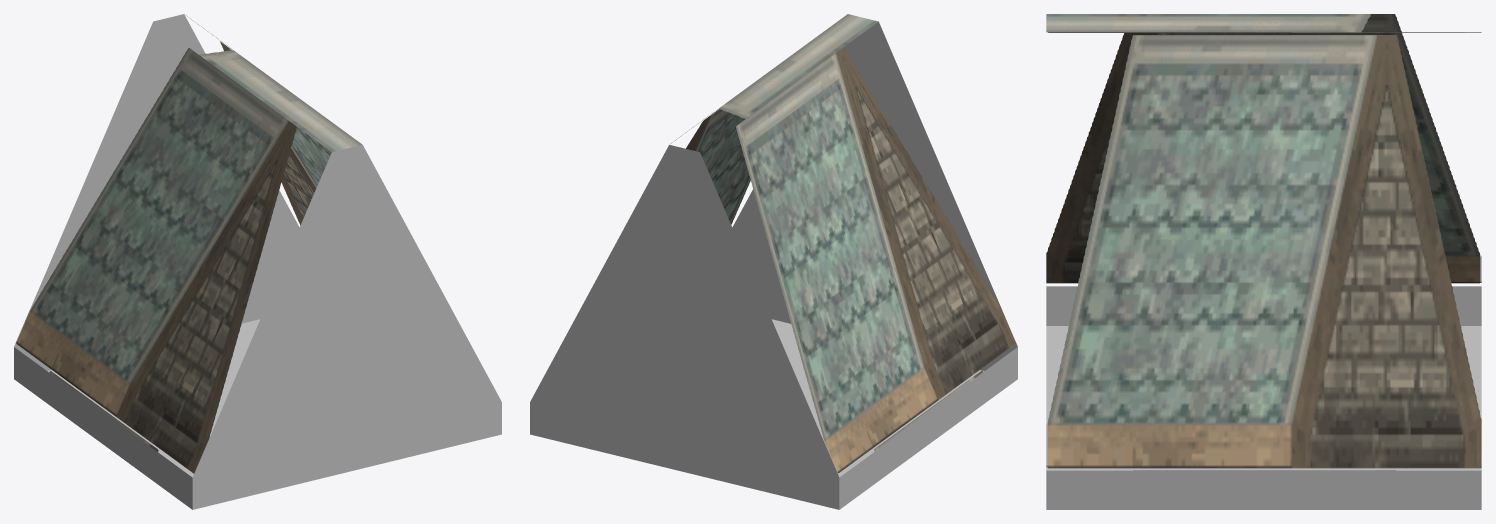
Rendered from roof.fbx.
The picture shows the model from 3 angles, left to right: view 1: azimuth 30°, elevation 25°; view 2: azimuth 150°, elevation 25°; view 3: azimuth 270°, elevation 25°; orthographic projection. The views are drawn at different scales.
Parts seen in each view (by area): view 1: roof; view 2: roof; view 3: roof.
Part boxes in pixels (x1,y1,x2,y2): roof: [14, 14, 501, 509]; roof: [530, 14, 1017, 509]; roof: [1046, 14, 1481, 509].
Size of the model in its own units: 10 by 10 by 10.
